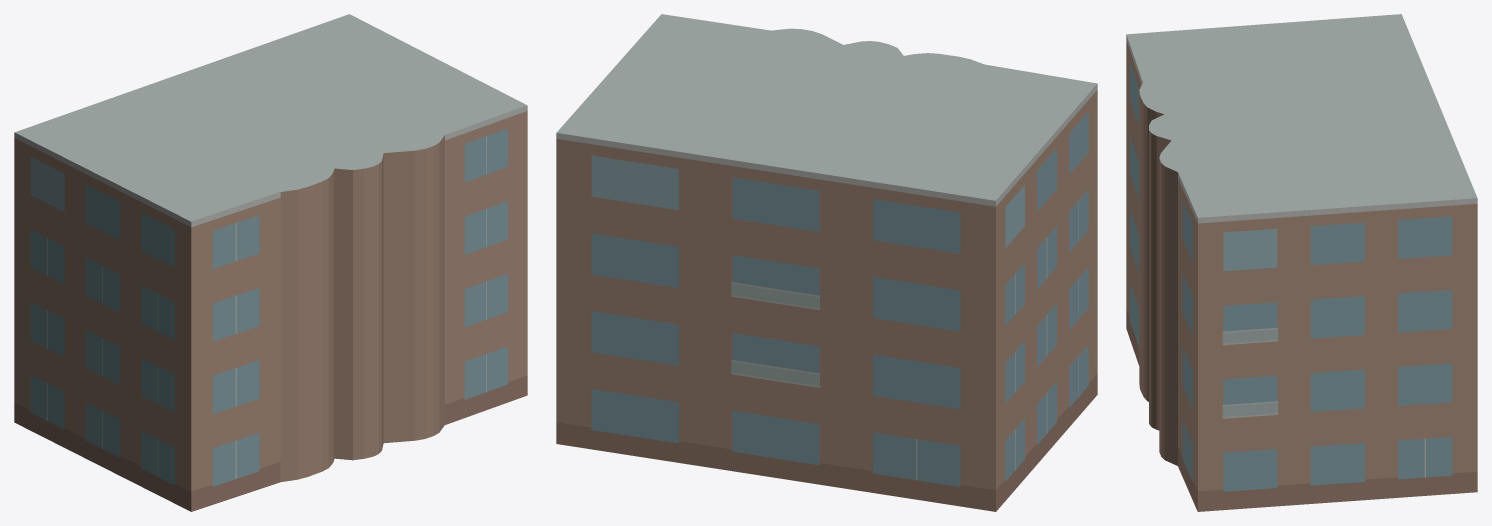
Rendered from survey-upis-32714463.glb.
3 renders of one model, left to right at view 1: azimuth 30°, elevation 25°; view 2: azimuth 150°, elevation 25°; view 3: azimuth 270°, elevation 25°, orthographic. The views are drawn at different scales.
Visible parts, largest first — view 1: survey-upis-32714463.tmp; view 2: survey-upis-32714463.tmp; view 3: survey-upis-32714463.tmp.
Part boxes in pixels (x1,y1,x2,y2): survey-upis-32714463.tmp: (14, 14, 527, 511); survey-upis-32714463.tmp: (556, 14, 1097, 511); survey-upis-32714463.tmp: (1126, 14, 1477, 511).
Size of the model in its own units: 19.06 by 12.8 by 13.88.
